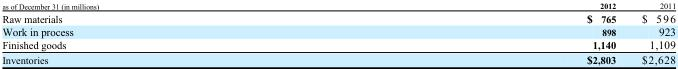table: (1, 1, 675, 65)
table column: (1, 1, 342, 65), (342, 1, 628, 65), (628, 1, 675, 65)
table column header: (1, 1, 675, 10)
table row: (1, 37, 675, 52), (1, 10, 675, 24), (1, 24, 675, 37), (1, 52, 675, 65), (1, 1, 675, 10)
